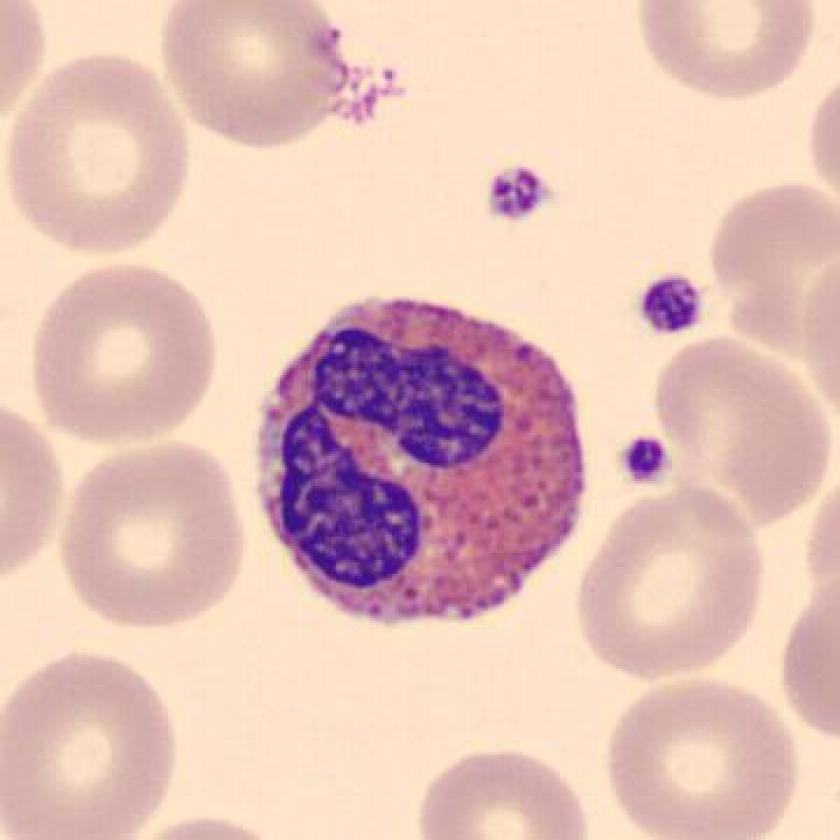eosinophil: (239, 279, 605, 651)
